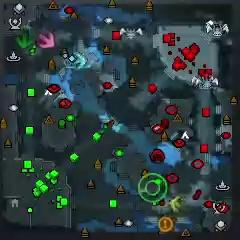Other: (158, 216, 174, 233)
x1: (37, 32, 55, 49)
x2: (170, 194, 186, 213)
x3: (70, 51, 88, 71)
x4: (15, 28, 35, 50)
